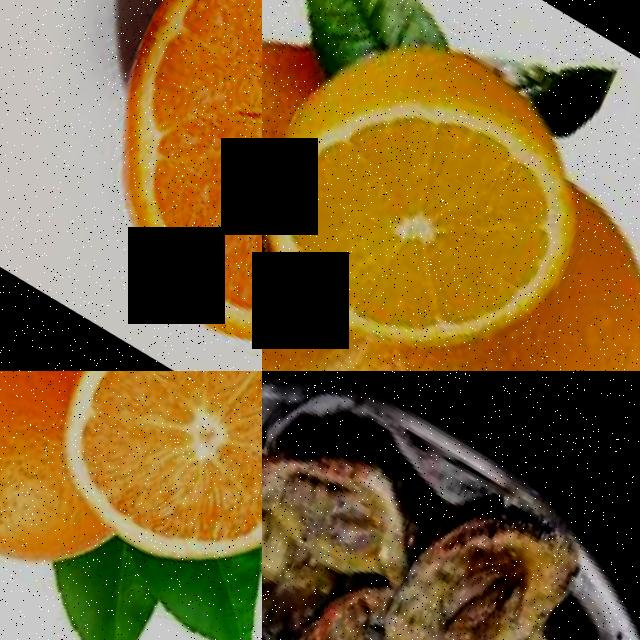orange: (262, 0, 619, 371), (21, 0, 262, 371), (406, 150, 640, 371), (0, 371, 160, 569), (262, 0, 345, 371), (262, 163, 364, 371), (293, 310, 623, 371), (256, 587, 262, 619)
oysters: (350, 453, 581, 640), (262, 385, 445, 609)
